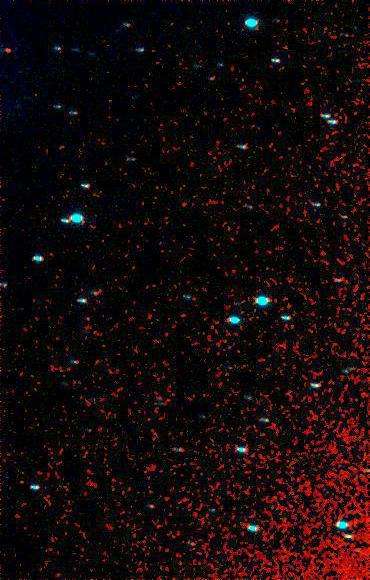star: (0, 35, 22, 65)
